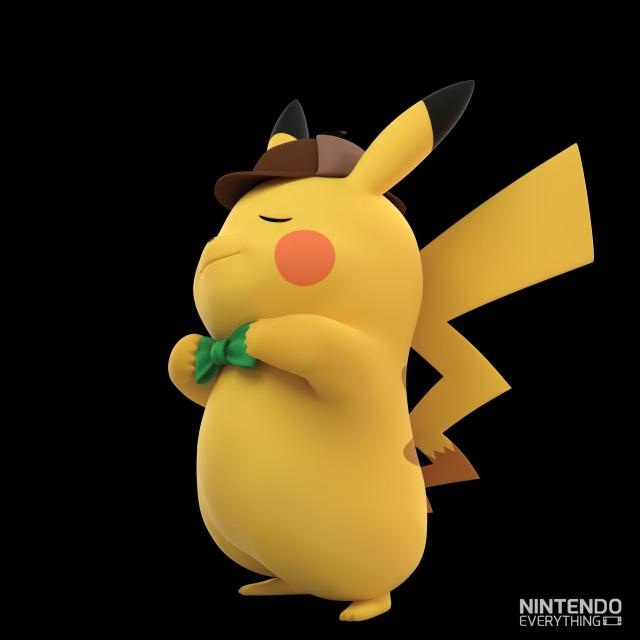pikachu: (167, 77, 596, 622)
